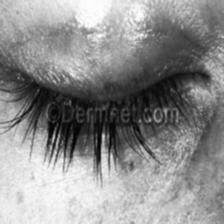Non-Cancerous Skin Condition: (44, 78, 132, 108)
